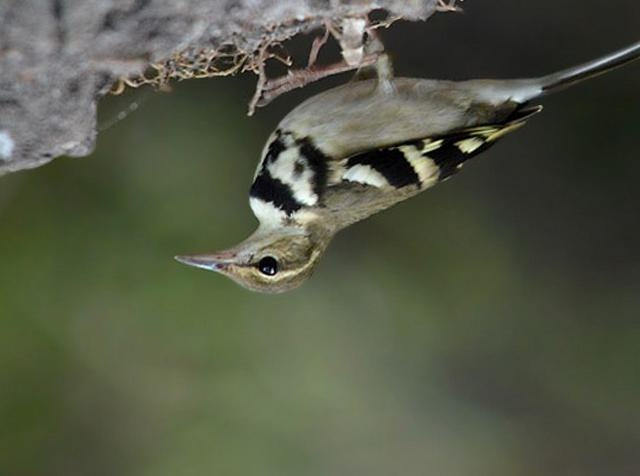wagtail: (171, 58, 566, 292)
